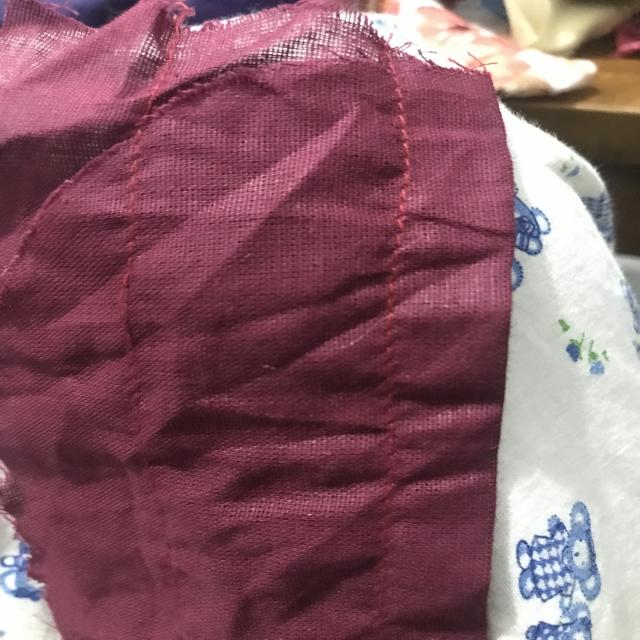skip: (107, 238, 147, 348)
